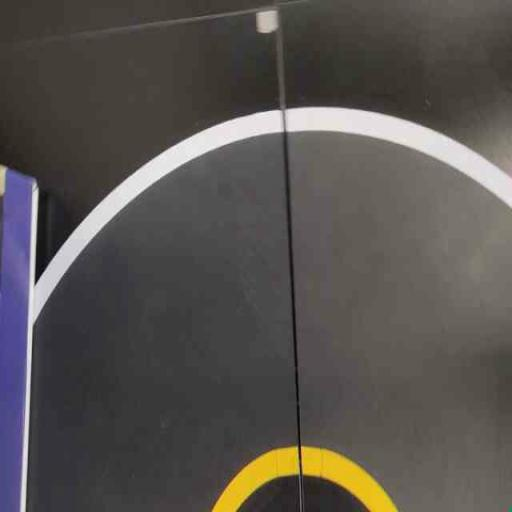left: (37, 72, 511, 512)
